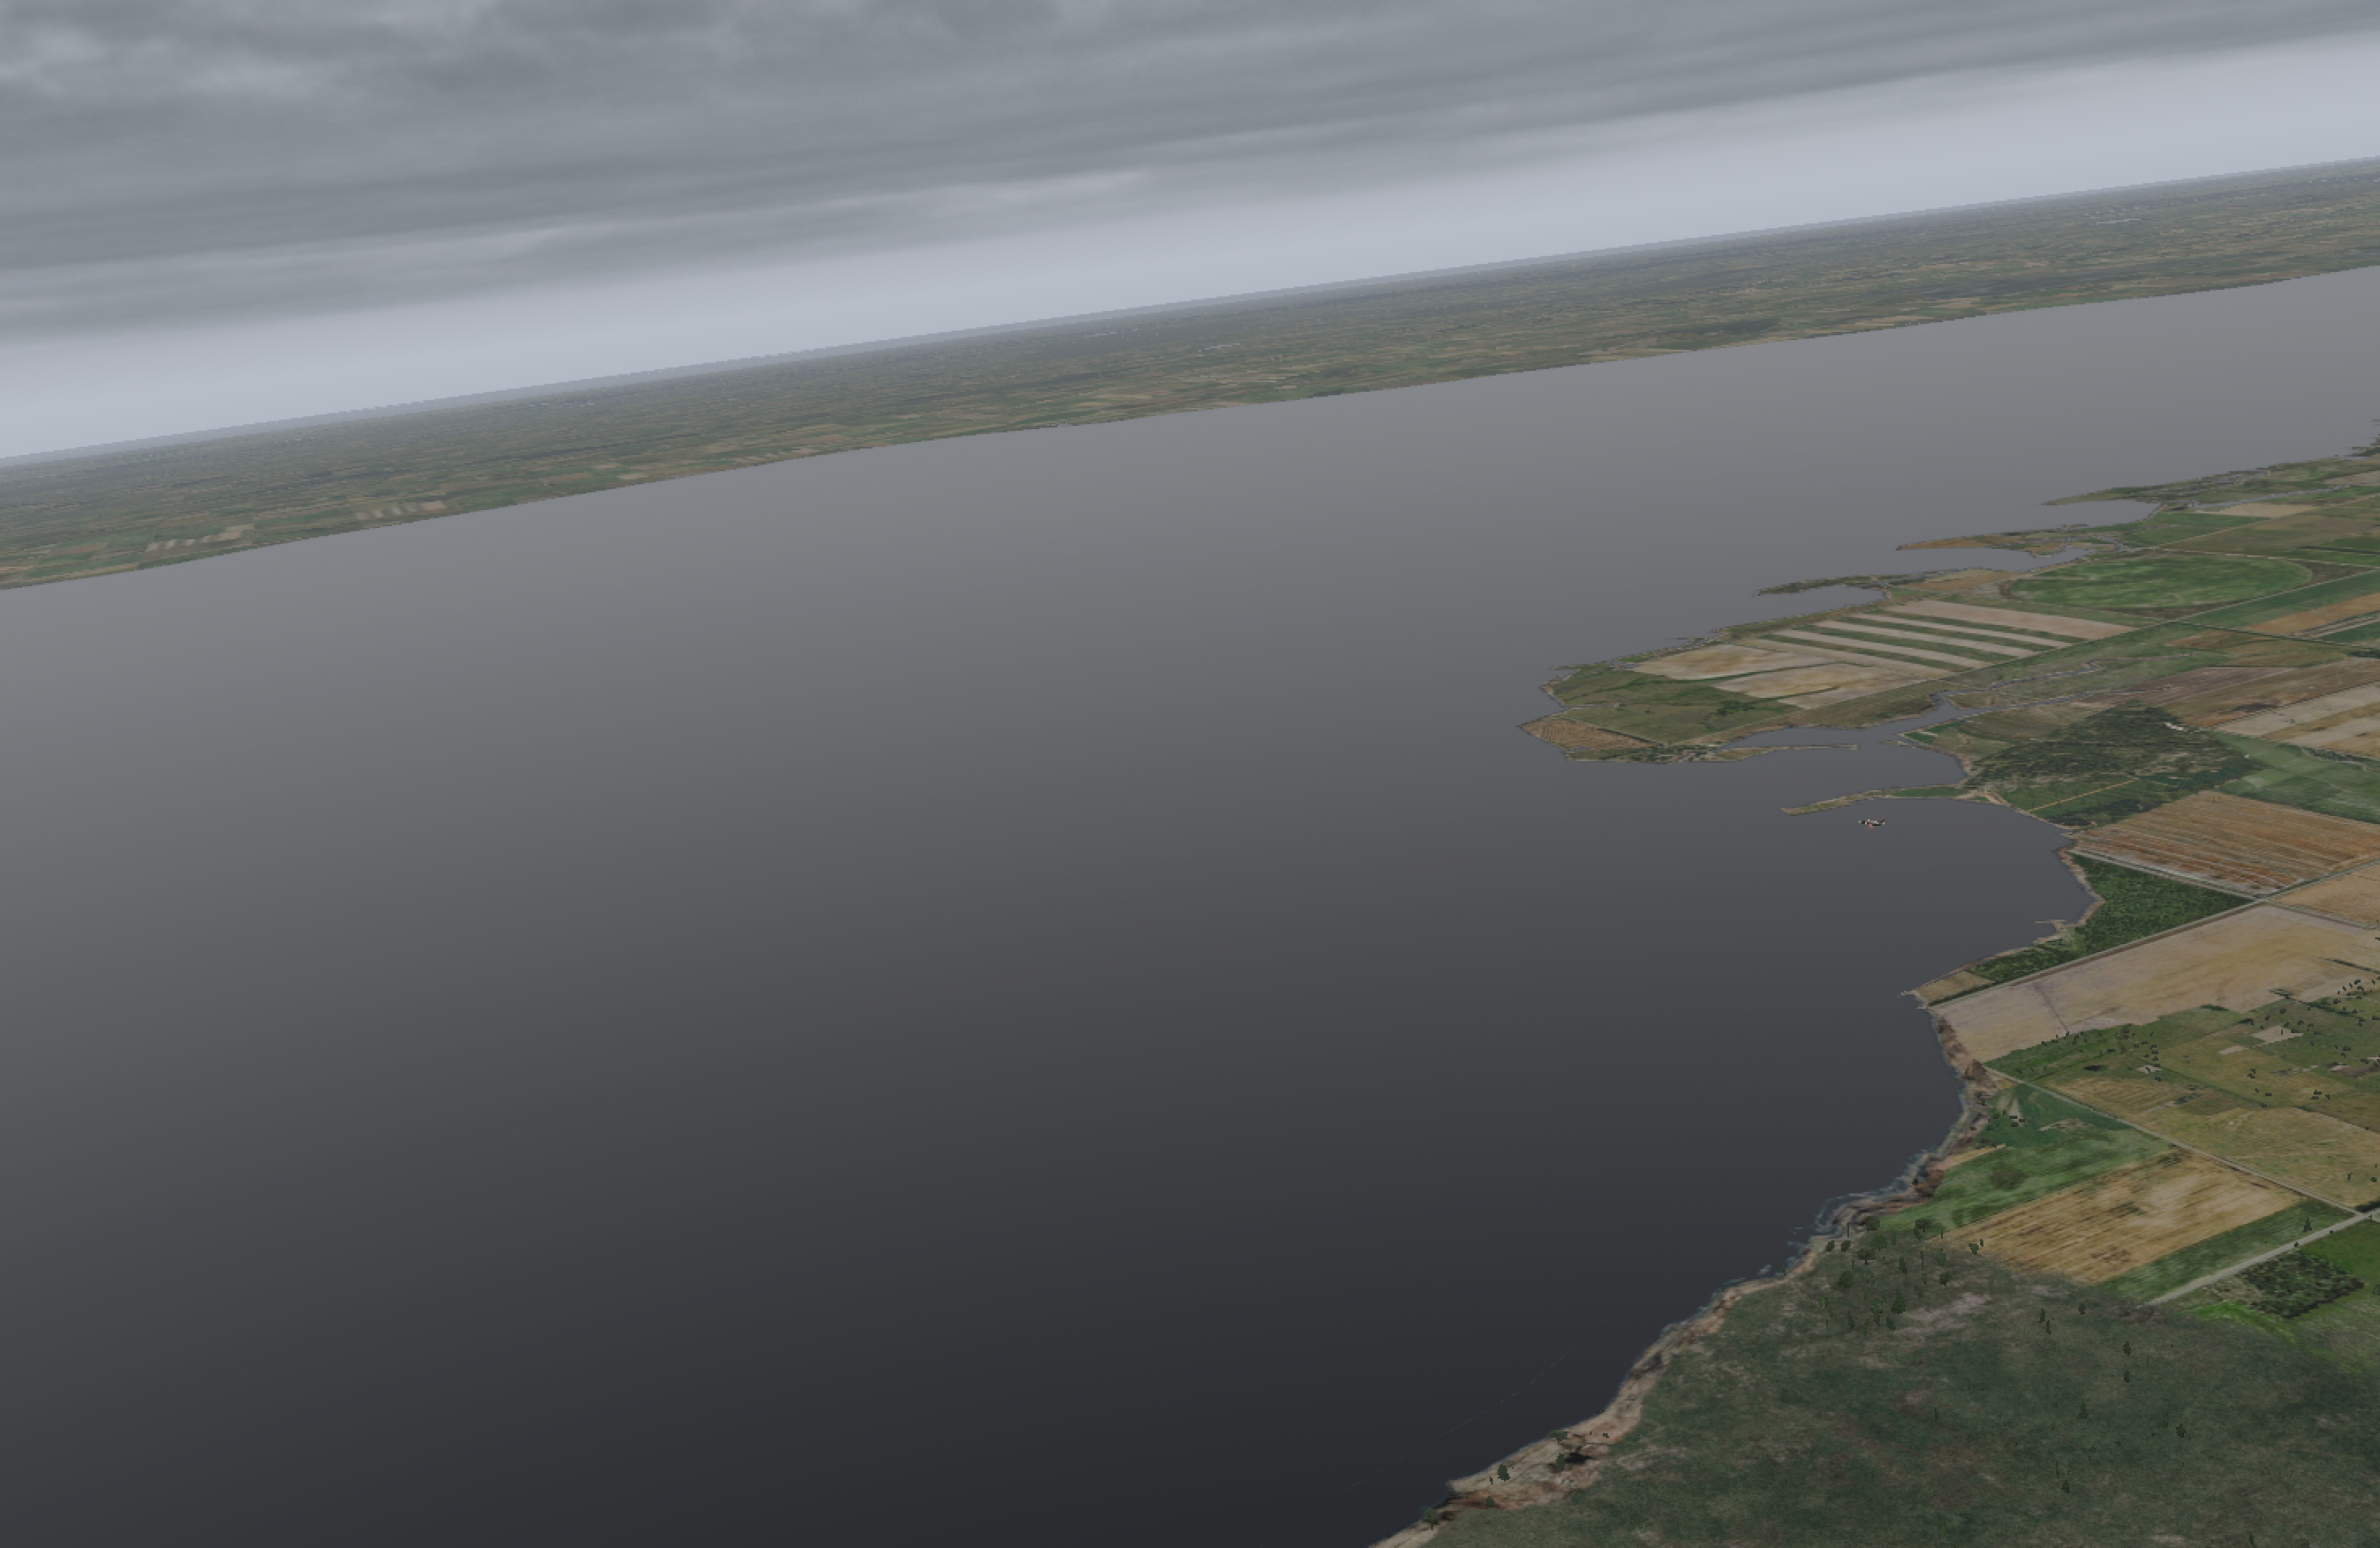aircraft: (1851, 817, 1887, 831)
